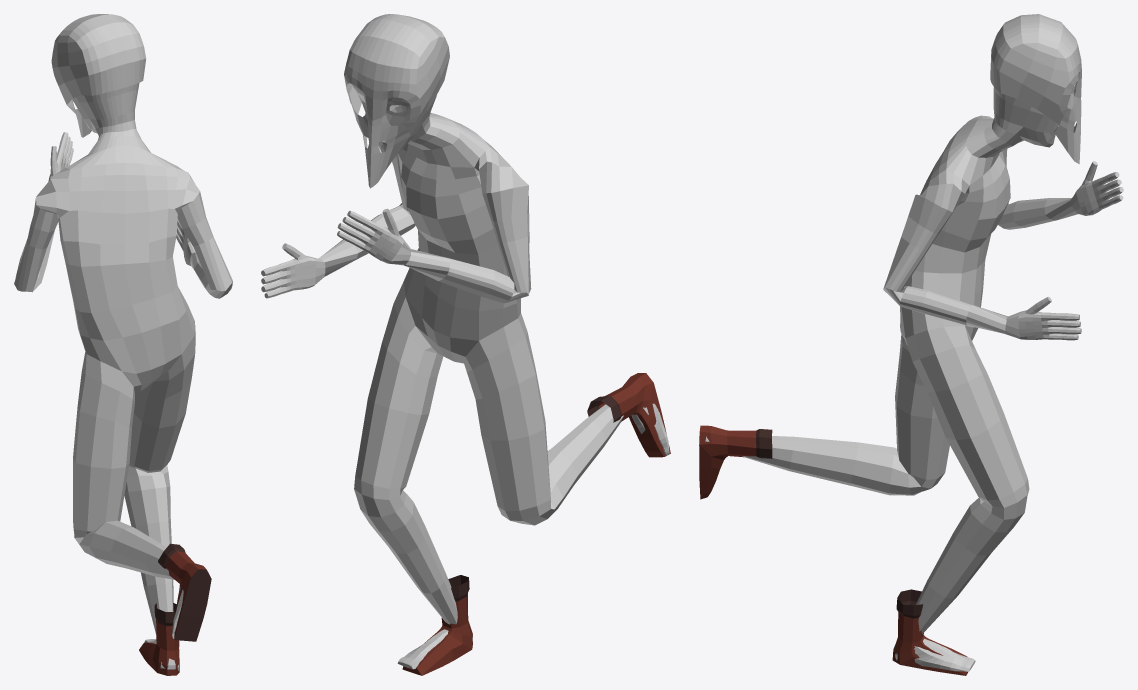
The model's file is correr_000130.obj.
3 renders of one model, left to right at view 1: azimuth 30°, elevation 25°; view 2: azimuth 150°, elevation 25°; view 3: azimuth 270°, elevation 25°, orthographic. The views are drawn at different scales.
Parts seen in each view (by area): view 1: Plane.002_Plane.001, Plane.004, Plane.003; view 2: Plane.002_Plane.001, Plane.004, Plane.003; view 3: Plane.002_Plane.001, Plane.004, Plane.003.
Boxes of the visible parts, x1=… form: Plane.002_Plane.001: x1=14, y1=14, x2=232, y2=670; Plane.004: x1=158, y1=543, x2=211, y2=641; Plane.003: x1=139, y1=603, x2=179, y2=675; Plane.002_Plane.001: x1=261, y1=14, x2=669, y2=669; Plane.004: x1=587, y1=373, x2=670, y2=457; Plane.003: x1=402, y1=575, x2=472, y2=675; Plane.002_Plane.001: x1=705, y1=14, x2=1123, y2=671; Plane.004: x1=699, y1=425, x2=772, y2=499; Plane.003: x1=892, y1=589, x2=967, y2=675.
Size of the model in its own units: 2.23 by 6.44 by 3.87.
